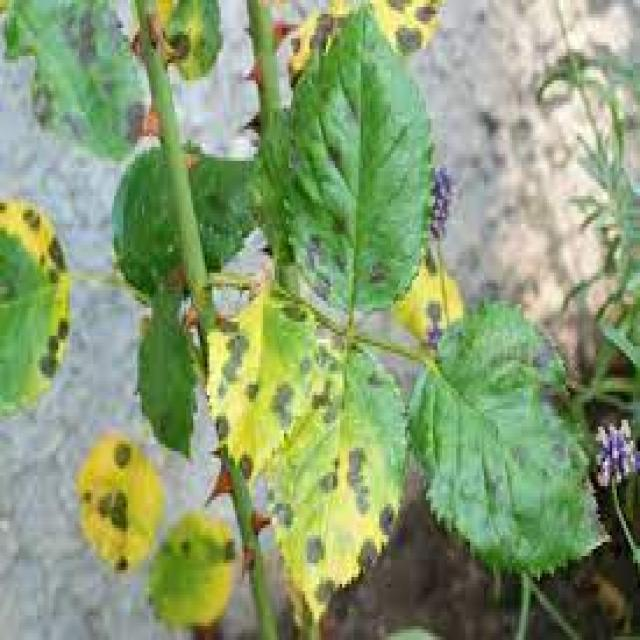black-spot: (214, 337, 406, 586)
